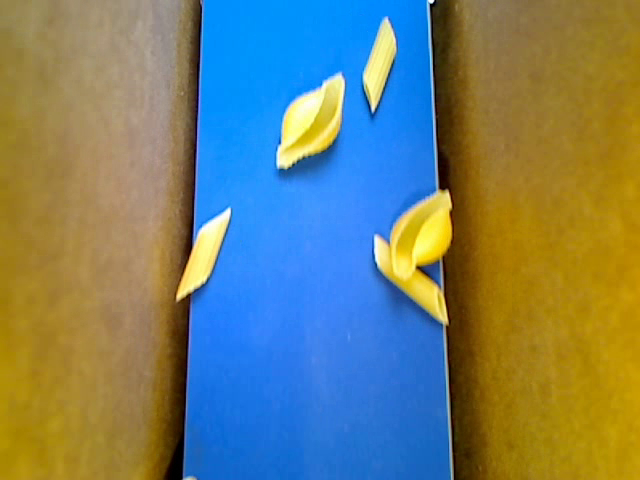penne: (373, 233, 449, 324), (176, 205, 231, 300), (362, 17, 397, 113)
shell: (275, 70, 347, 170), (390, 189, 453, 280)
